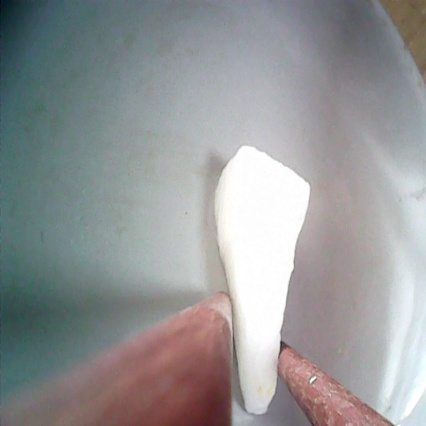white_chinese-yam: (211, 144, 309, 418)
